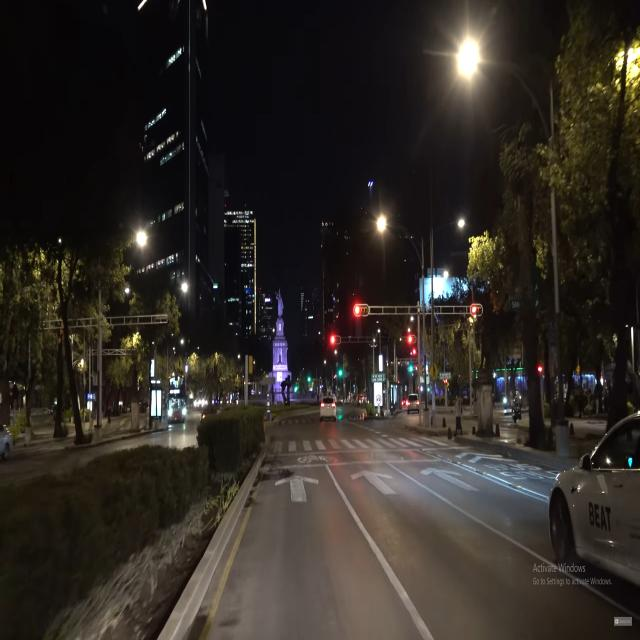headlights: (165, 404, 189, 424)
